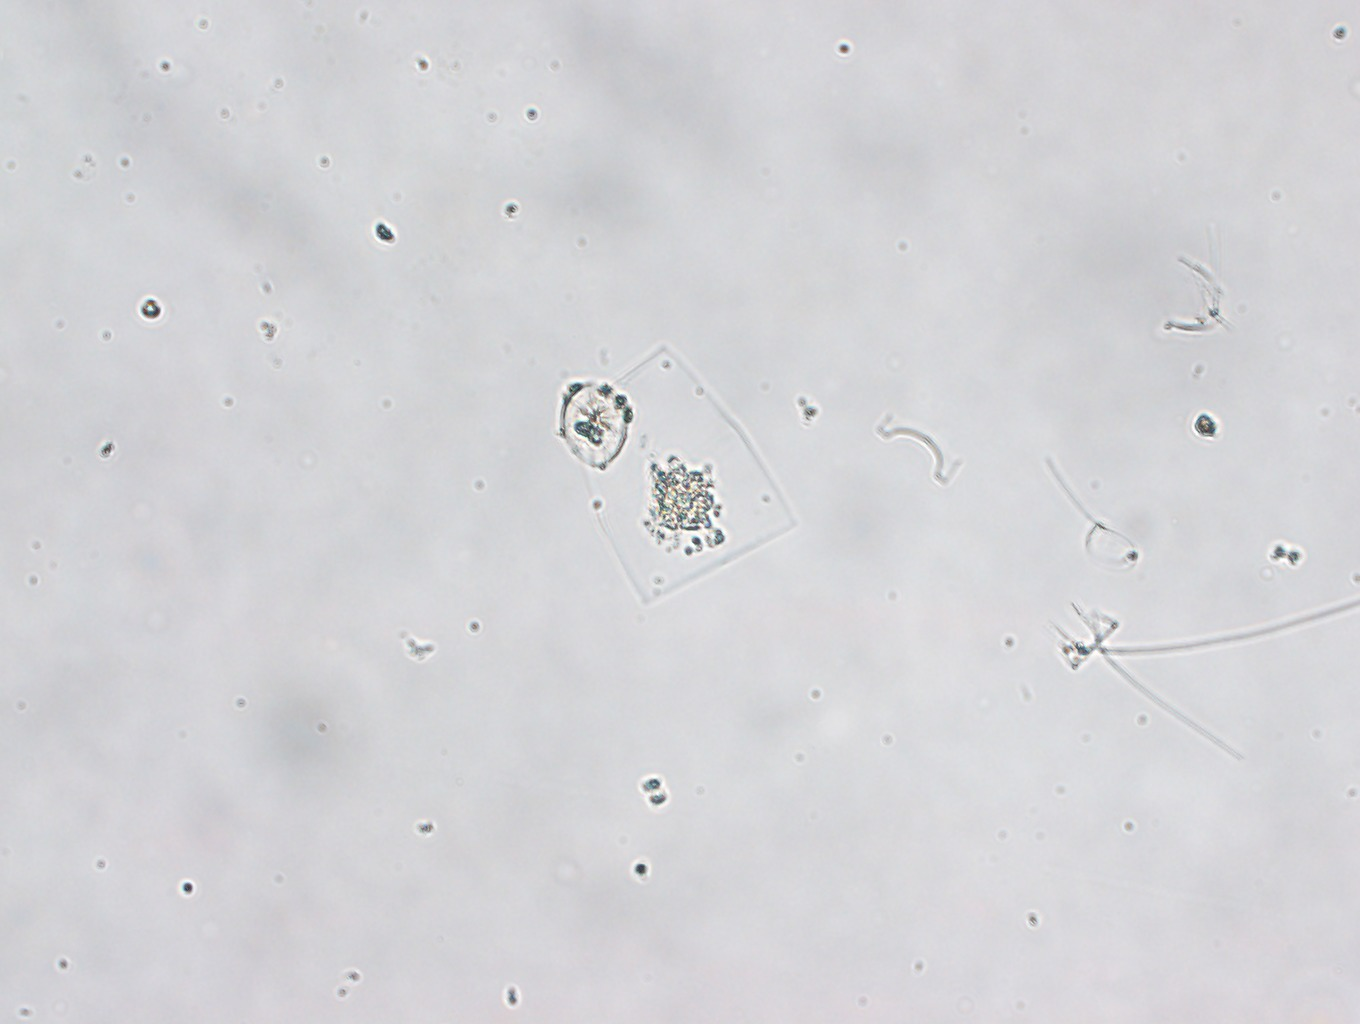helicotheca: (554, 344, 801, 609)
